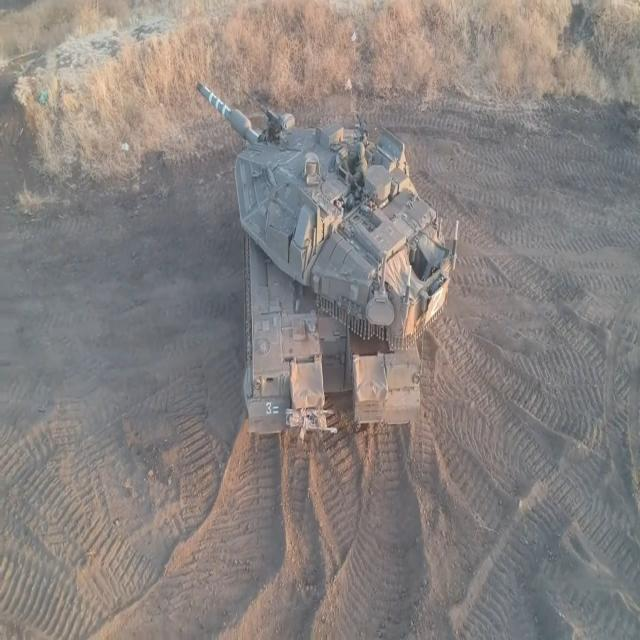tank: (192, 71, 465, 438)
